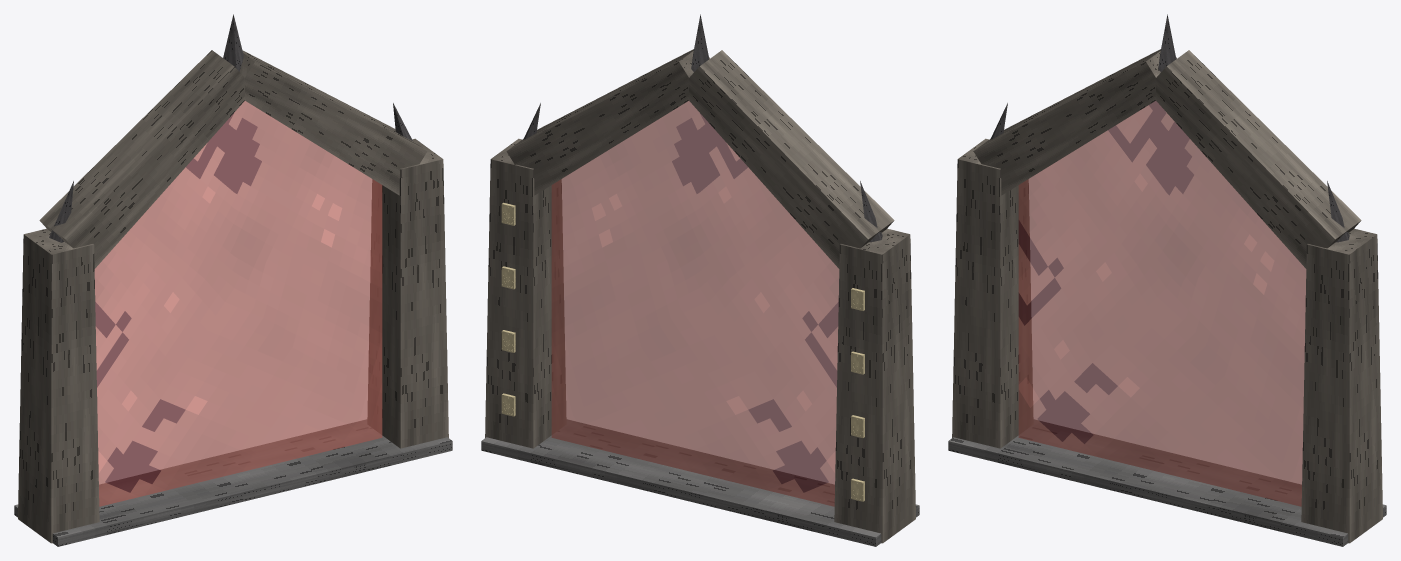
Rendered from prop_exit_gate.gltf.
The picture shows the model from 3 angles, left to right: view 1: azimuth 30°, elevation 25°; view 2: azimuth 150°, elevation 25°; view 3: azimuth 330°, elevation 25°; orthographic projection.
Parts seen in each view (by area): view 1: portal, frame; view 2: portal, frame, lights; view 3: portal, frame.
Part boxes in pixels (x1,y1,x2,y2): portal: [94, 101, 382, 506]; frame: [14, 14, 452, 546]; portal: [551, 101, 839, 506]; frame: [481, 14, 919, 546]; lights: [501, 202, 864, 501]; portal: [1018, 101, 1306, 506]; frame: [948, 14, 1386, 546].
Size of the model in its own units: 5.24 by 5.9 by 1.
3 materials, 3 textured.
